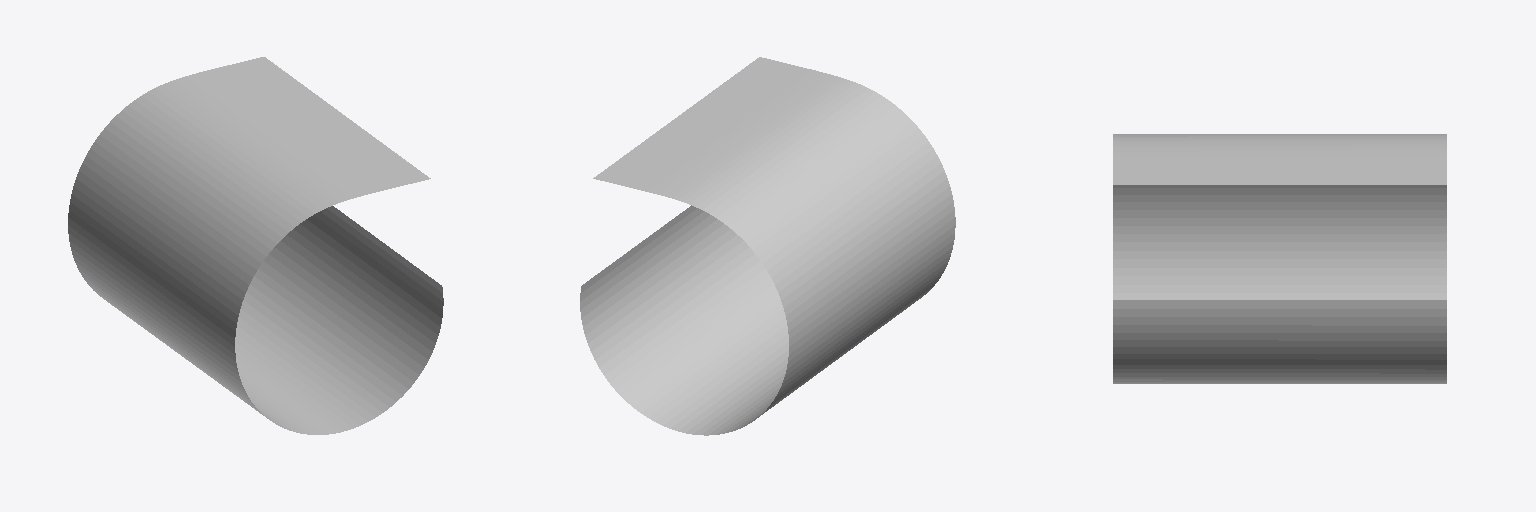
The model's file is CurvePaper_000019.obj.
3 views of the same model, side by side, from view 1: azimuth 30°, elevation 25°; view 2: azimuth 150°, elevation 25°; view 3: azimuth 270°, elevation 25° (orthographic).
Visible parts, largest first — view 1: Plane; view 2: Plane; view 3: Plane.
Part boxes in pixels (x1,y1,x2,y2): Plane: (68, 57, 443, 434); Plane: (580, 57, 955, 435); Plane: (1113, 134, 1446, 383).
Size of the model in its own units: 1.64 by 1.74 by 2.26.